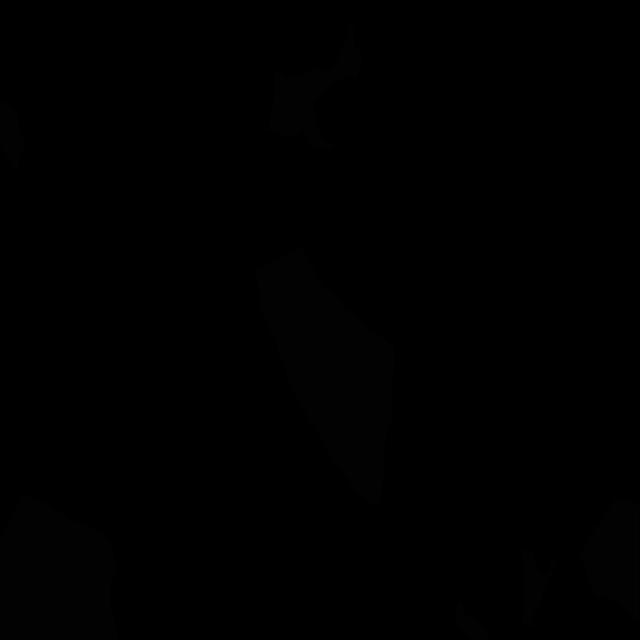cardboard: (254, 246, 395, 507), (0, 495, 118, 640), (268, 22, 363, 150), (580, 499, 640, 623), (521, 548, 557, 628), (0, 100, 26, 172), (455, 600, 490, 640)
